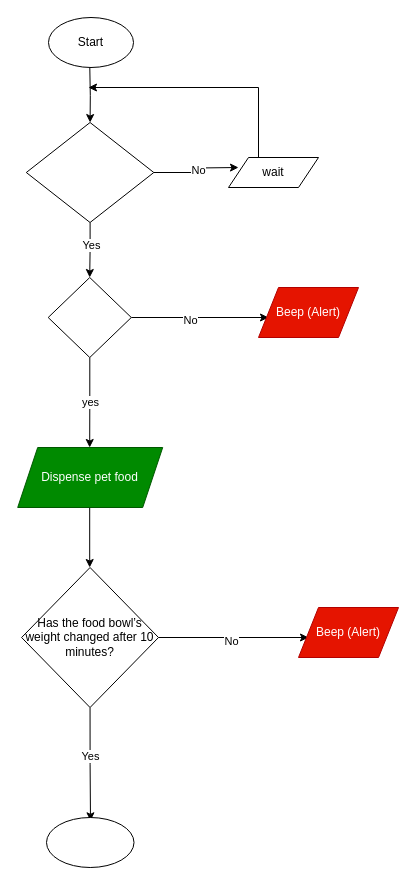
This 416x885 diagram has some shape labels left out. Here are the shapes that lost their labels. From the top down, the centre of each, then its label:
pixel 89 172: Does real time match the set time?
pixel 89 317: is the food level full?
pixel 90 842: Stop
